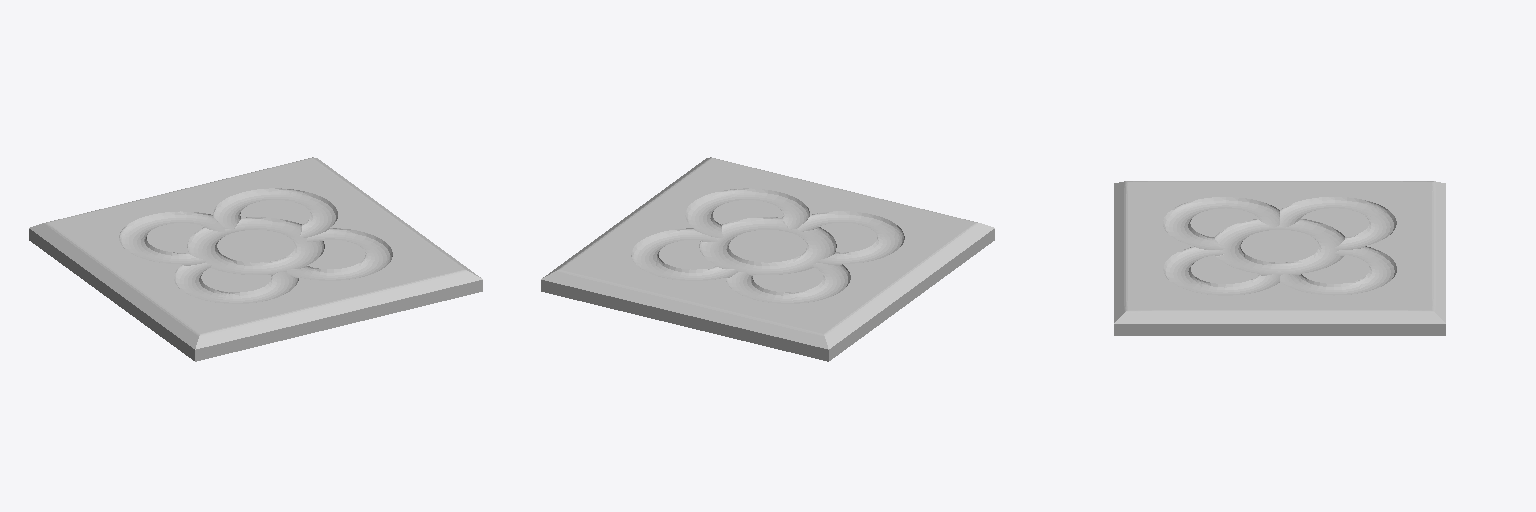
Rendered from barcelona_panot.obj.
3 views of the same model, side by side, from view 1: azimuth 30°, elevation 25°; view 2: azimuth 150°, elevation 25°; view 3: azimuth 270°, elevation 25° (orthographic).
Parts seen in each view (by area): view 1: Panot_50X3; view 2: Panot_50X3; view 3: Panot_50X3.
Part boxes in pixels (x1,y1,x2,y2): Panot_50X3: (29,157,482,361); Panot_50X3: (541,157,994,361); Panot_50X3: (1114,181,1445,335).
Size of the model in its own units: 49.98 by 3.25 by 49.98.